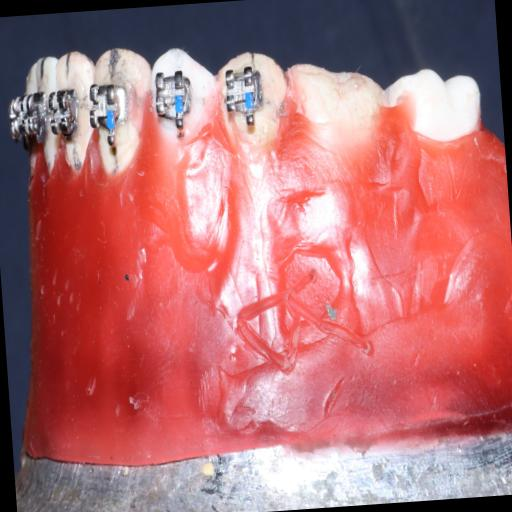incorrect_brace: (223, 64, 268, 118)
